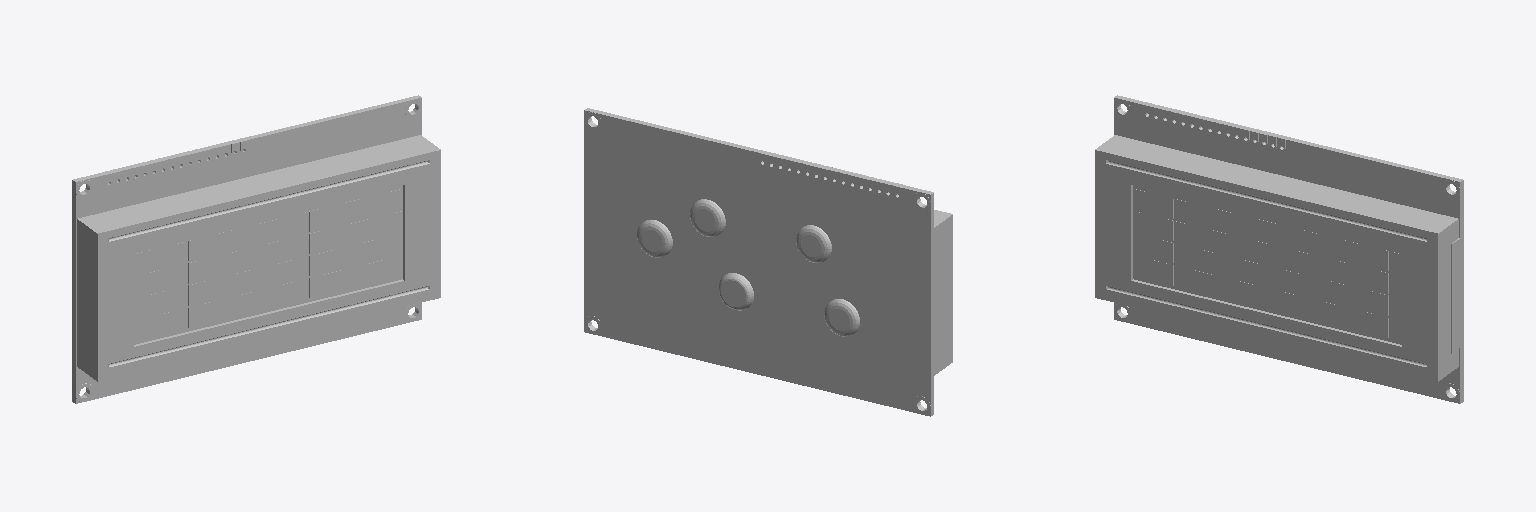
Rendered from LCD 20x4 Display Panel.obj.
3 renders of one model, left to right at view 1: azimuth 30°, elevation 25°; view 2: azimuth 150°, elevation 25°; view 3: azimuth 330°, elevation 25°, orthographic.
Parts seen in each view (by area): view 1: Solid1; view 2: Solid1; view 3: Solid1.
Boxes of the visible parts, <box> form: Solid1: <box>72,95,440,403</box>; Solid1: <box>584,108,952,416</box>; Solid1: <box>1095,95,1463,403</box>.
Size of the model in its own units: 98 by 60 by 13.1.